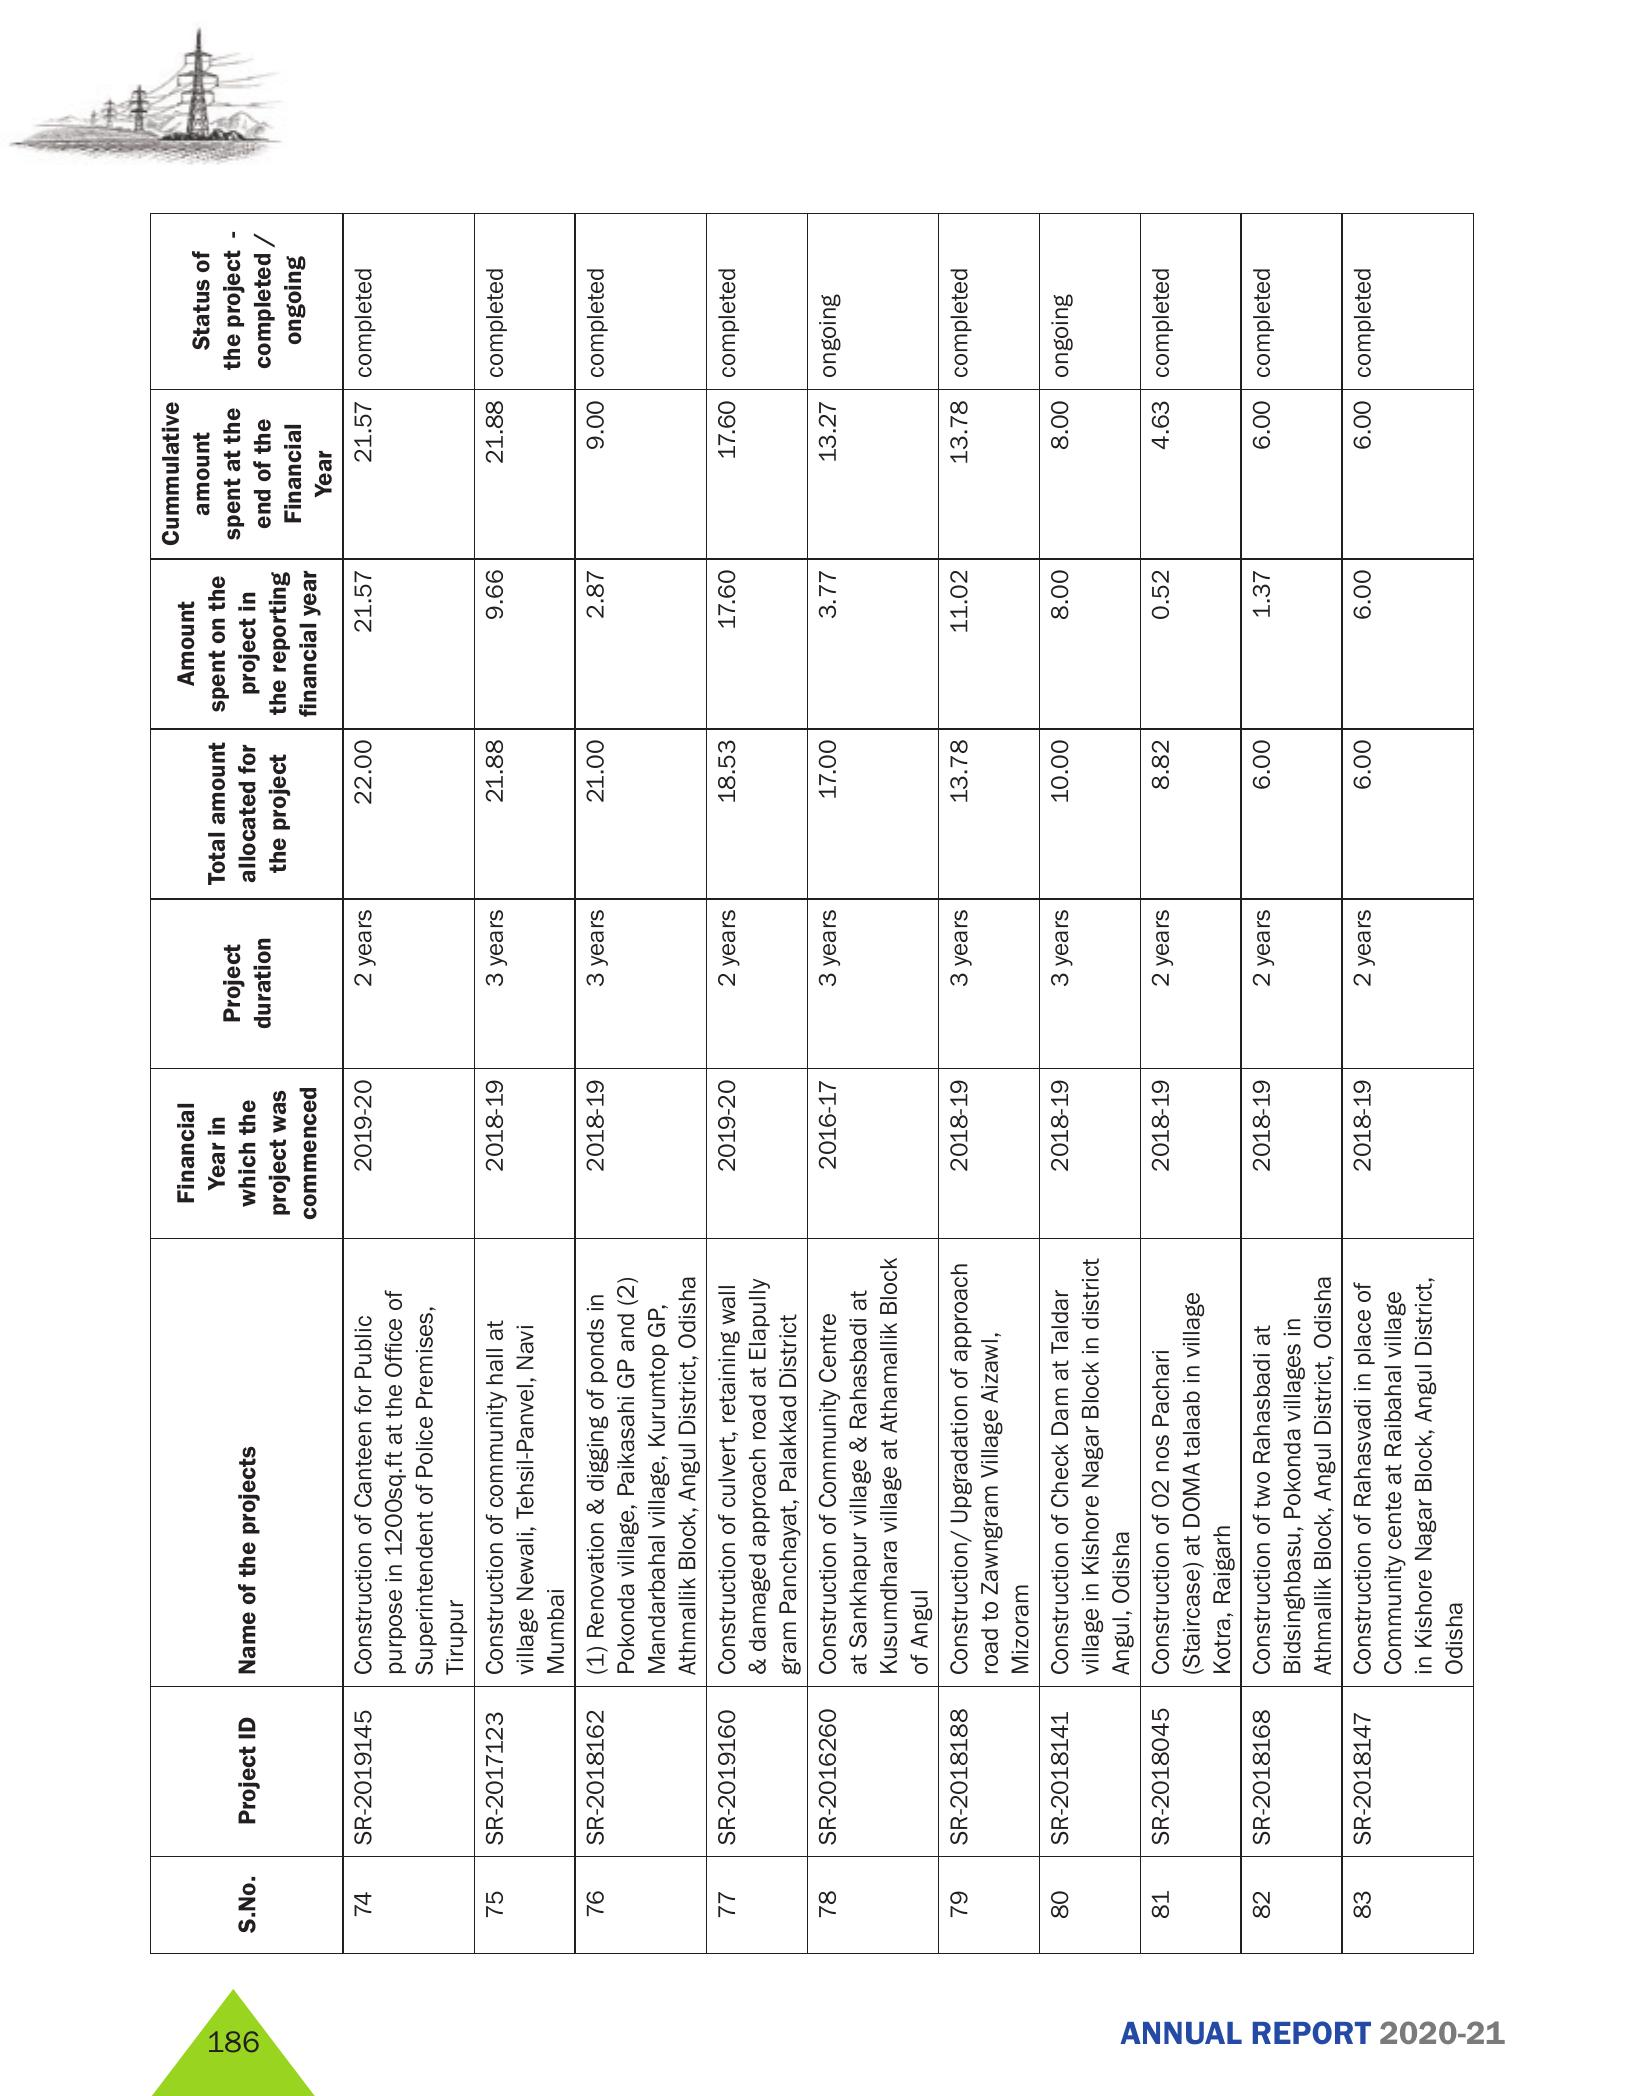Footer: (0, 1974, 1650, 2096)
Header: (0, 0, 1650, 175)
Table: (117, 213, 1521, 1968)
